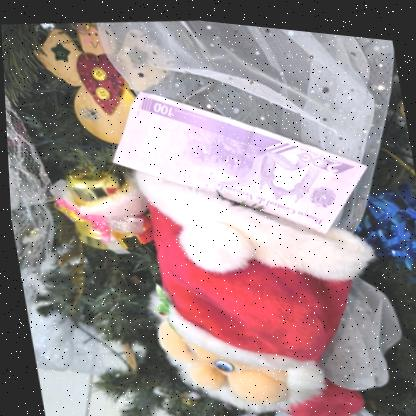one_hundred-back-vef: (97, 57, 378, 257)
